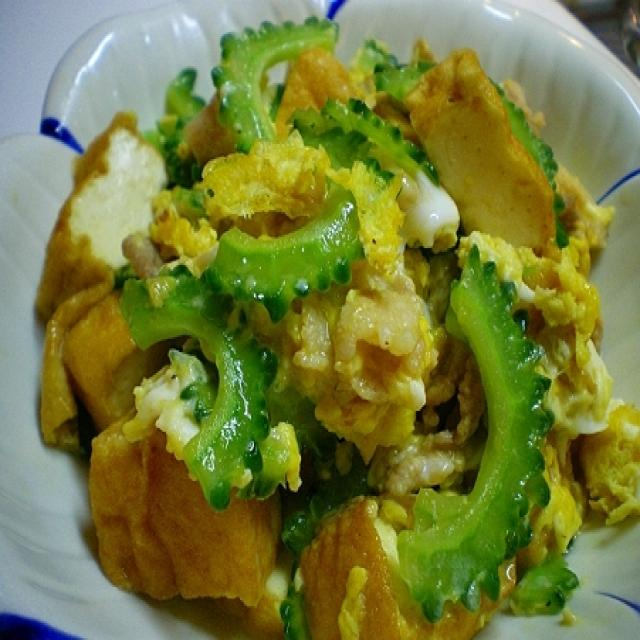熟制海鲜: (5, 0, 640, 636)
